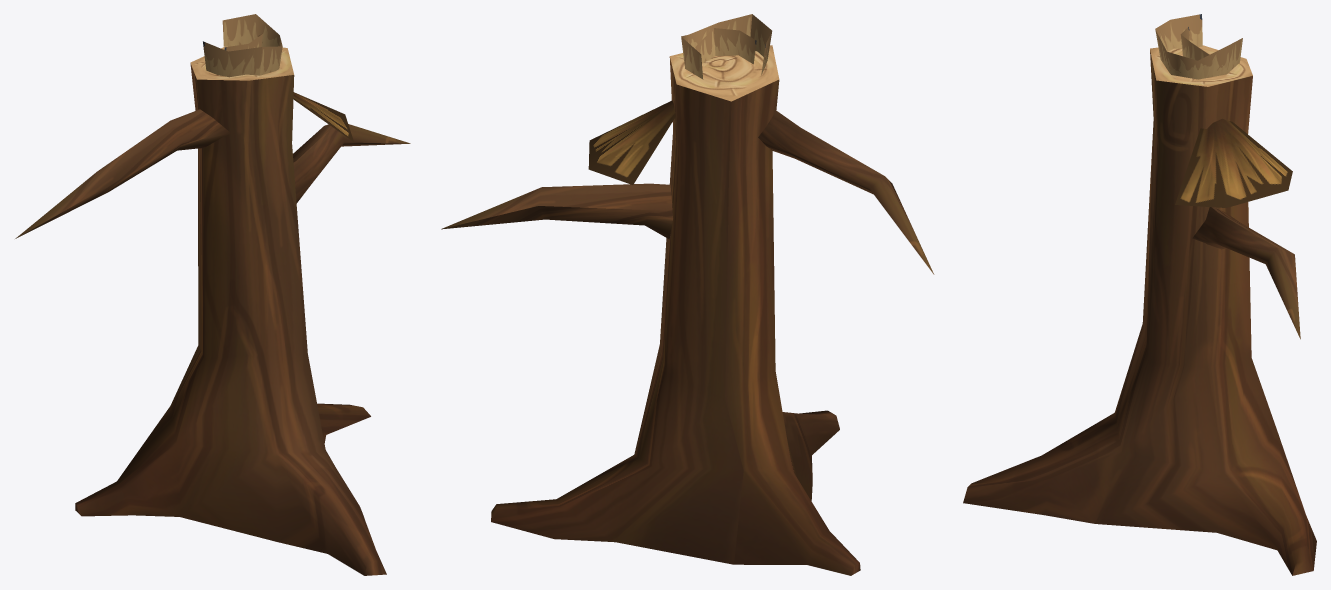
The model's file is strump_03.fbx.
3 views of the same model, side by side, from view 1: azimuth 30°, elevation 25°; view 2: azimuth 150°, elevation 25°; view 3: azimuth 270°, elevation 25° (orthographic). The views are drawn at different scales.
Visible parts, largest first — view 1: strump_03:Mesh; view 2: strump_03:Mesh; view 3: strump_03:Mesh.
Part boxes in pixels (x1,y1,x2,y2): strump_03:Mesh: (15, 14, 410, 575); strump_03:Mesh: (441, 14, 934, 575); strump_03:Mesh: (963, 14, 1316, 575).
Size of the model in its own units: 4.82 by 4.93 by 3.43.
